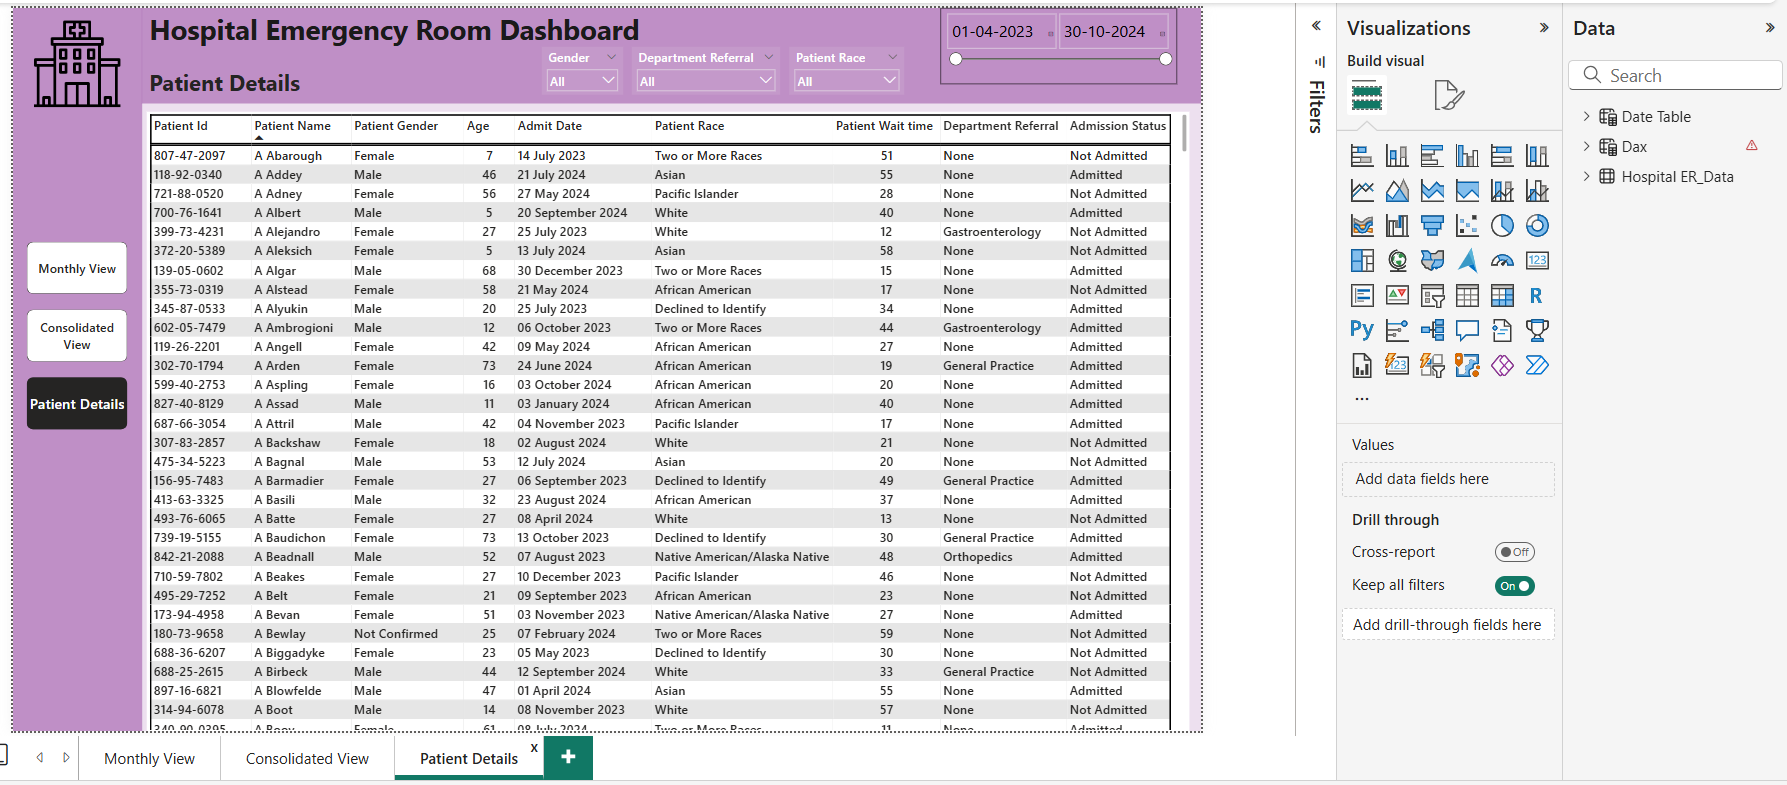

Layout of this report page (visuals, bound fields, positions):
{"tool":"powerbi","page":{"name":"Patient Details","canvas":[2300,1400],"ordinal":2},"visuals":[{"type":"shape","box":[0,0,250,1400],"z":0},{"type":"shape","box":[250,0,2050,185],"z":1000},{"type":"textbox","box":[260,0,977.5,92.5],"z":2000},{"type":"textbox","box":[260,110,385,75],"z":3000},{"type":"slicer","fields":{"Values":["Date Table.Date"]},"box":[1795,0,457.5,147.5],"z":4000},{"type":"image","box":[27.5,17.5,195,182.5],"z":5000},{"type":"tableEx","fields":{"Values":["Hospital ER_Data.Patient Id","Hospital ER_Data.Patient Full Name","Hospital ER_Data.Patient Gender","Hospital ER_Data.Patient Age","Hospital ER_Data.Patient Admit Date","Hospital ER_Data.Patient Race","Hospital ER_Data.Patient Waittime","Hospital ER_Data.Department Referral","Hospital ER_Data.Admission Status"]},"box":[260,200,2017.5,1200],"z":6000},{"type":"slicer","fields":{"Values":["Hospital ER_Data.Patient Gender"]},"box":[1022.5,75,157.5,92.5],"z":7000},{"type":"pageNavigator","box":[27,452.5,195,365],"z":8000},{"type":"slicer","fields":{"Values":["Hospital ER_Data.Department Referral"]},"box":[1197.5,75,287.5,92.5],"z":9000},{"type":"slicer","fields":{"Values":["Hospital ER_Data.Patient Race"]},"box":[1502.5,75,222.5,92.5],"z":10000}]}

Visuals, with their boxes on the page's 2300x1400 design canvas (x1, y1, x2, y2). These are canvas units, not pixel positions in the 1787x785 screenshot, which may show the page scaled, cropped or inside an application window:
shape: [left=0, top=0, right=250, bottom=1400]
shape: [left=250, top=0, right=2300, bottom=185]
textbox: [left=260, top=0, right=1238, bottom=92]
textbox: [left=260, top=110, right=645, bottom=185]
slicer - Date Table.Date: [left=1795, top=0, right=2252, bottom=148]
image: [left=28, top=18, right=222, bottom=200]
tableEx - Hospital ER_Data.Patient Id x Hospital ER_Data.Patient Full Name: [left=260, top=200, right=2278, bottom=1400]
slicer - Hospital ER_Data.Patient Gender: [left=1022, top=75, right=1180, bottom=168]
pageNavigator: [left=27, top=452, right=222, bottom=818]
slicer - Hospital ER_Data.Department Referral: [left=1198, top=75, right=1485, bottom=168]
slicer - Hospital ER_Data.Patient Race: [left=1502, top=75, right=1725, bottom=168]
